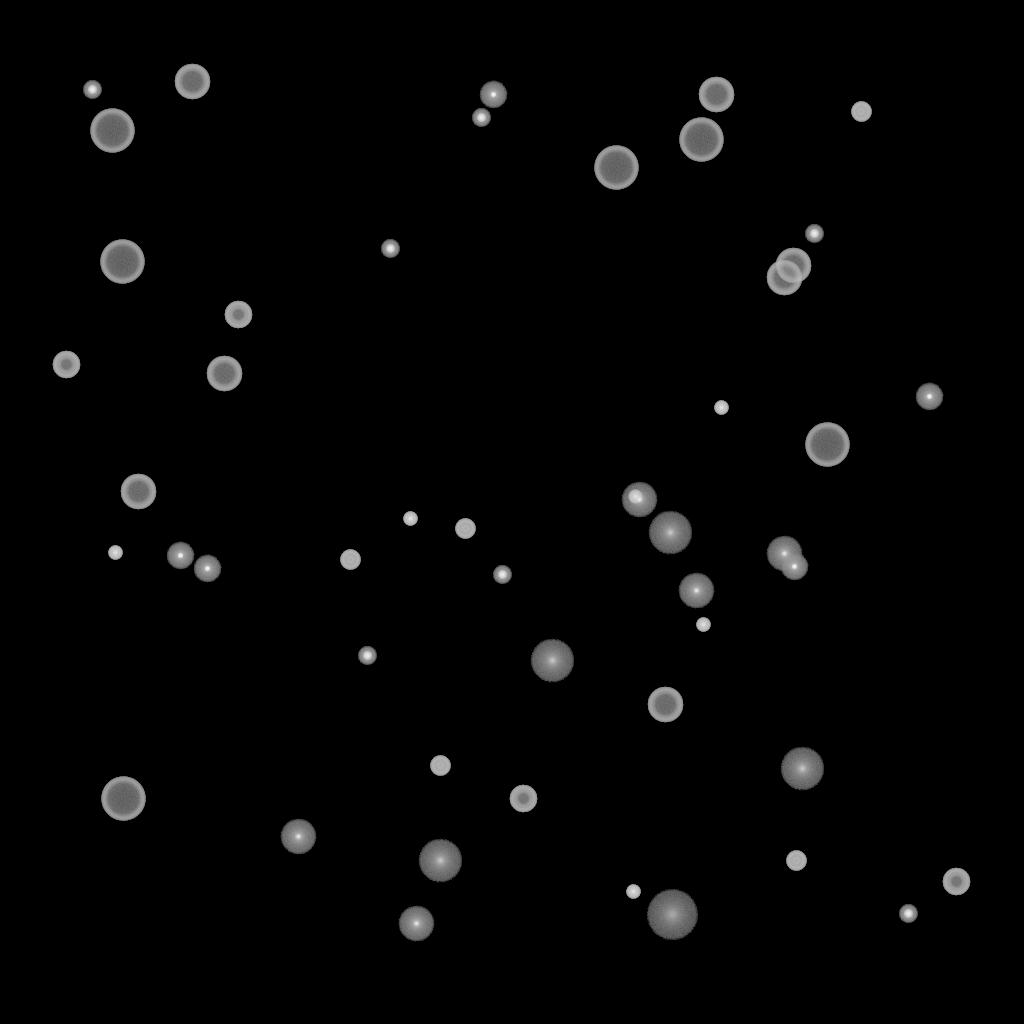depth:-10: (193, 555, 221, 583), (166, 542, 194, 570), (479, 81, 507, 109), (780, 553, 808, 581), (915, 383, 943, 411)
depth:-20: (83, 81, 101, 99), (381, 240, 399, 258), (899, 905, 917, 923), (472, 109, 490, 127), (805, 225, 823, 243), (358, 647, 376, 665), (493, 566, 511, 584)
depth:-30: (696, 618, 710, 632), (108, 546, 122, 560), (626, 885, 640, 899), (714, 401, 728, 415), (403, 512, 417, 526), (628, 490, 642, 504)
depth:-40: (340, 550, 360, 570), (786, 851, 806, 871), (430, 756, 450, 776), (455, 519, 475, 539), (851, 102, 871, 122)
depth:-50: (52, 351, 80, 379), (509, 785, 537, 813), (224, 301, 252, 329), (942, 868, 970, 896)
depth:-60: (647, 687, 683, 723), (766, 260, 802, 296), (120, 474, 156, 510), (174, 64, 210, 100), (698, 77, 734, 113), (775, 248, 811, 284), (206, 356, 242, 392)
depth:-70: (101, 777, 145, 821), (90, 109, 134, 153), (679, 118, 723, 162), (805, 423, 849, 467), (594, 146, 638, 190), (100, 240, 144, 284)
depth:0: (280, 819, 316, 855), (621, 482, 657, 518), (766, 536, 802, 572), (678, 573, 714, 609), (398, 906, 434, 942)
depth:10: (418, 839, 462, 883), (530, 639, 574, 683), (780, 747, 824, 791), (648, 511, 692, 555)
depth:20: (646, 890, 698, 940)
